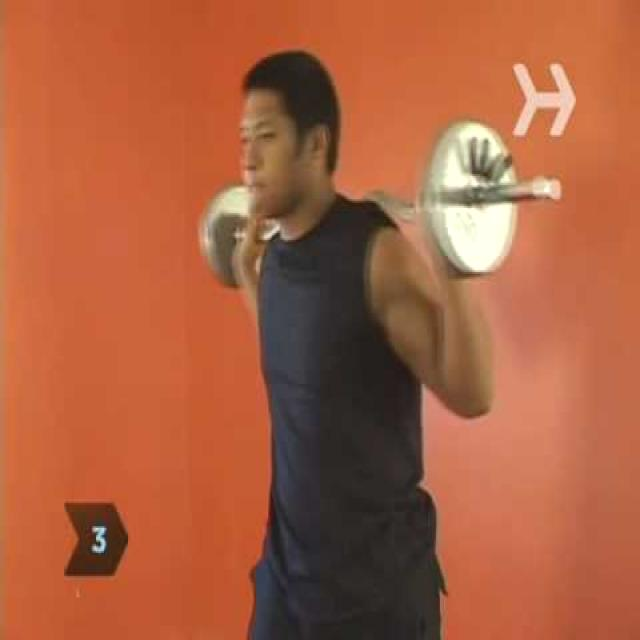barbell_plate_side: (199, 117, 289, 288), (471, 117, 561, 288)
